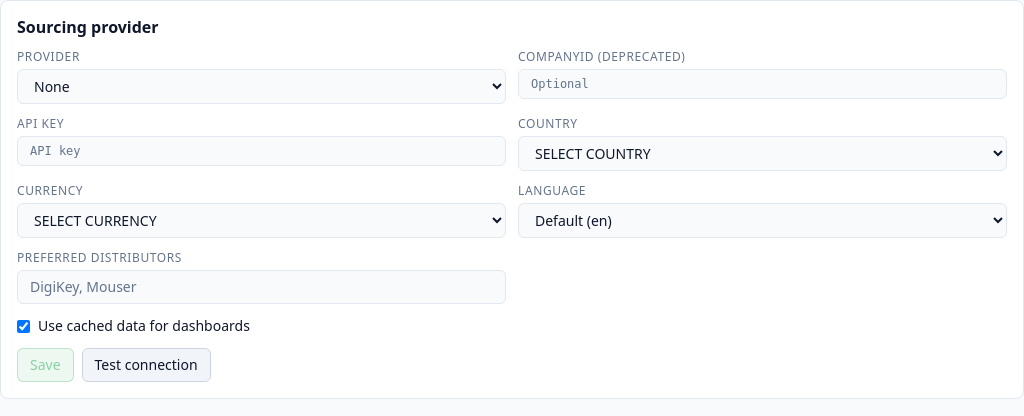
it: SourcingCard › does not display credential values, even when typed and saved
The width and height of the screenshot is (1024, 416).
Type "secret-company-id" into the password field labelled "CompanyId (deprecated)" at (762, 84), box [518, 69, 1007, 99]
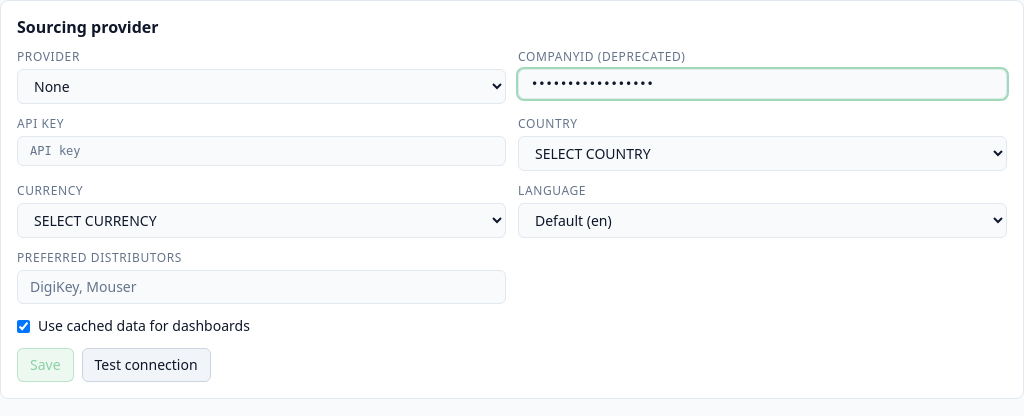
Type "secret-api-key" into the password field labelled "API Key" at (262, 151), box [17, 136, 506, 166]
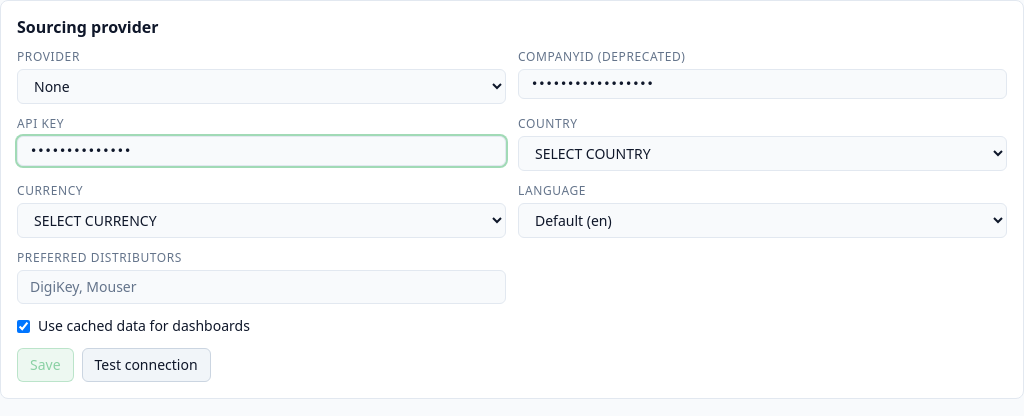
Select "CZ" in the dropdown labelled "Country" at (762, 154), box [518, 136, 1007, 171]
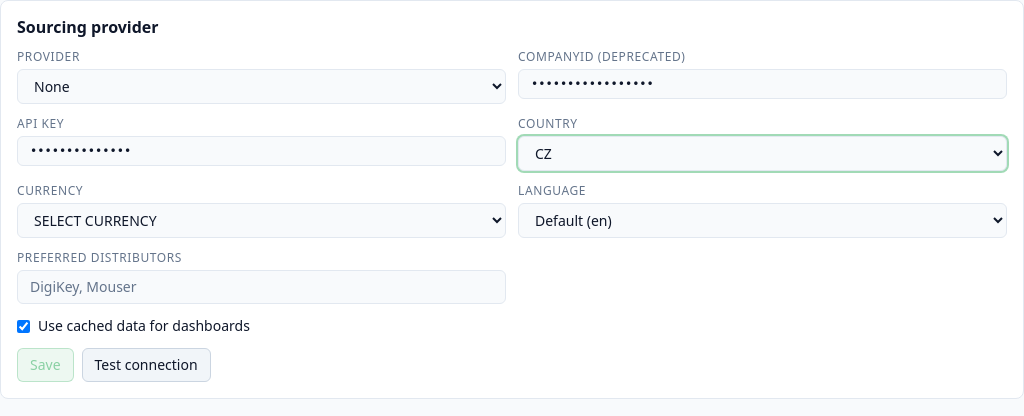
Select "EUR" in the dropdown labelled "Currency" at (262, 220), box [17, 203, 506, 238]
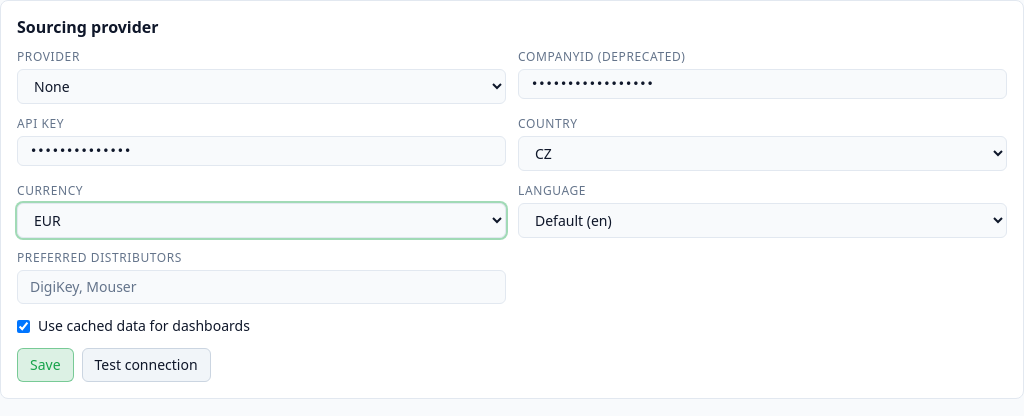
Click the button "Save" at (45, 365), box [17, 348, 74, 382]
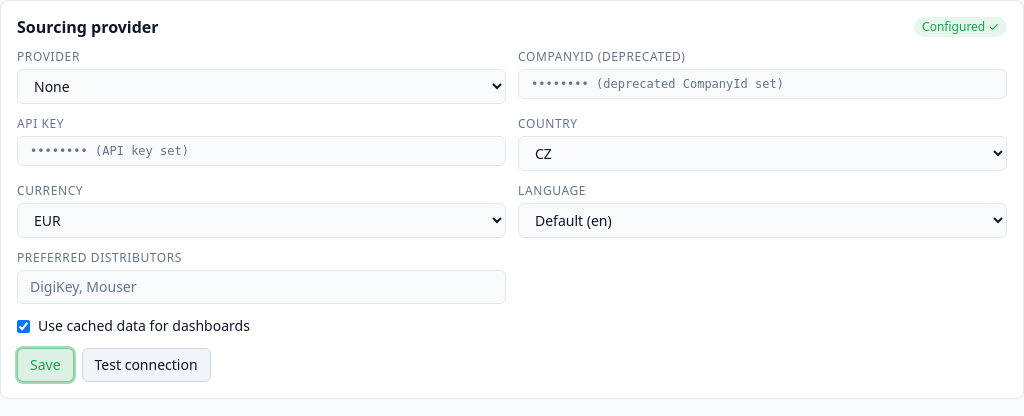
expect the text "Configured ✓" is shown: met, box [914, 17, 1007, 37]
